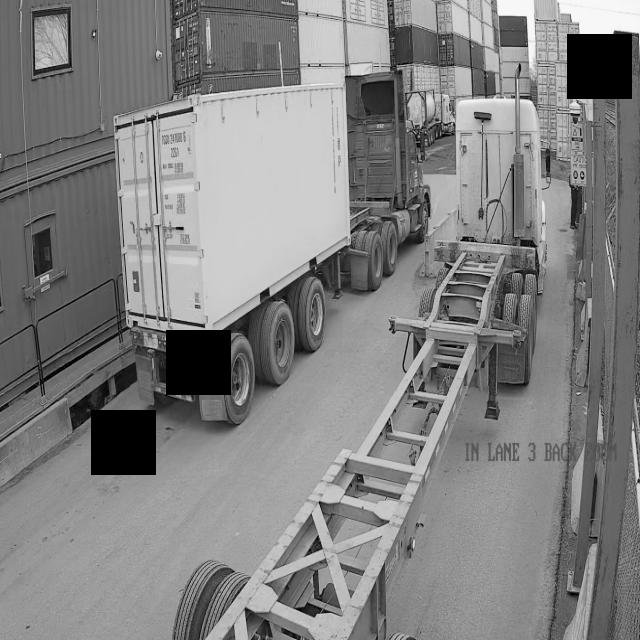container_number: (156, 124, 199, 189)
license_plate: (165, 352, 186, 372)
truck_with_container: (115, 72, 432, 424), (407, 89, 454, 145)
truck_without_container: (174, 64, 551, 640)
